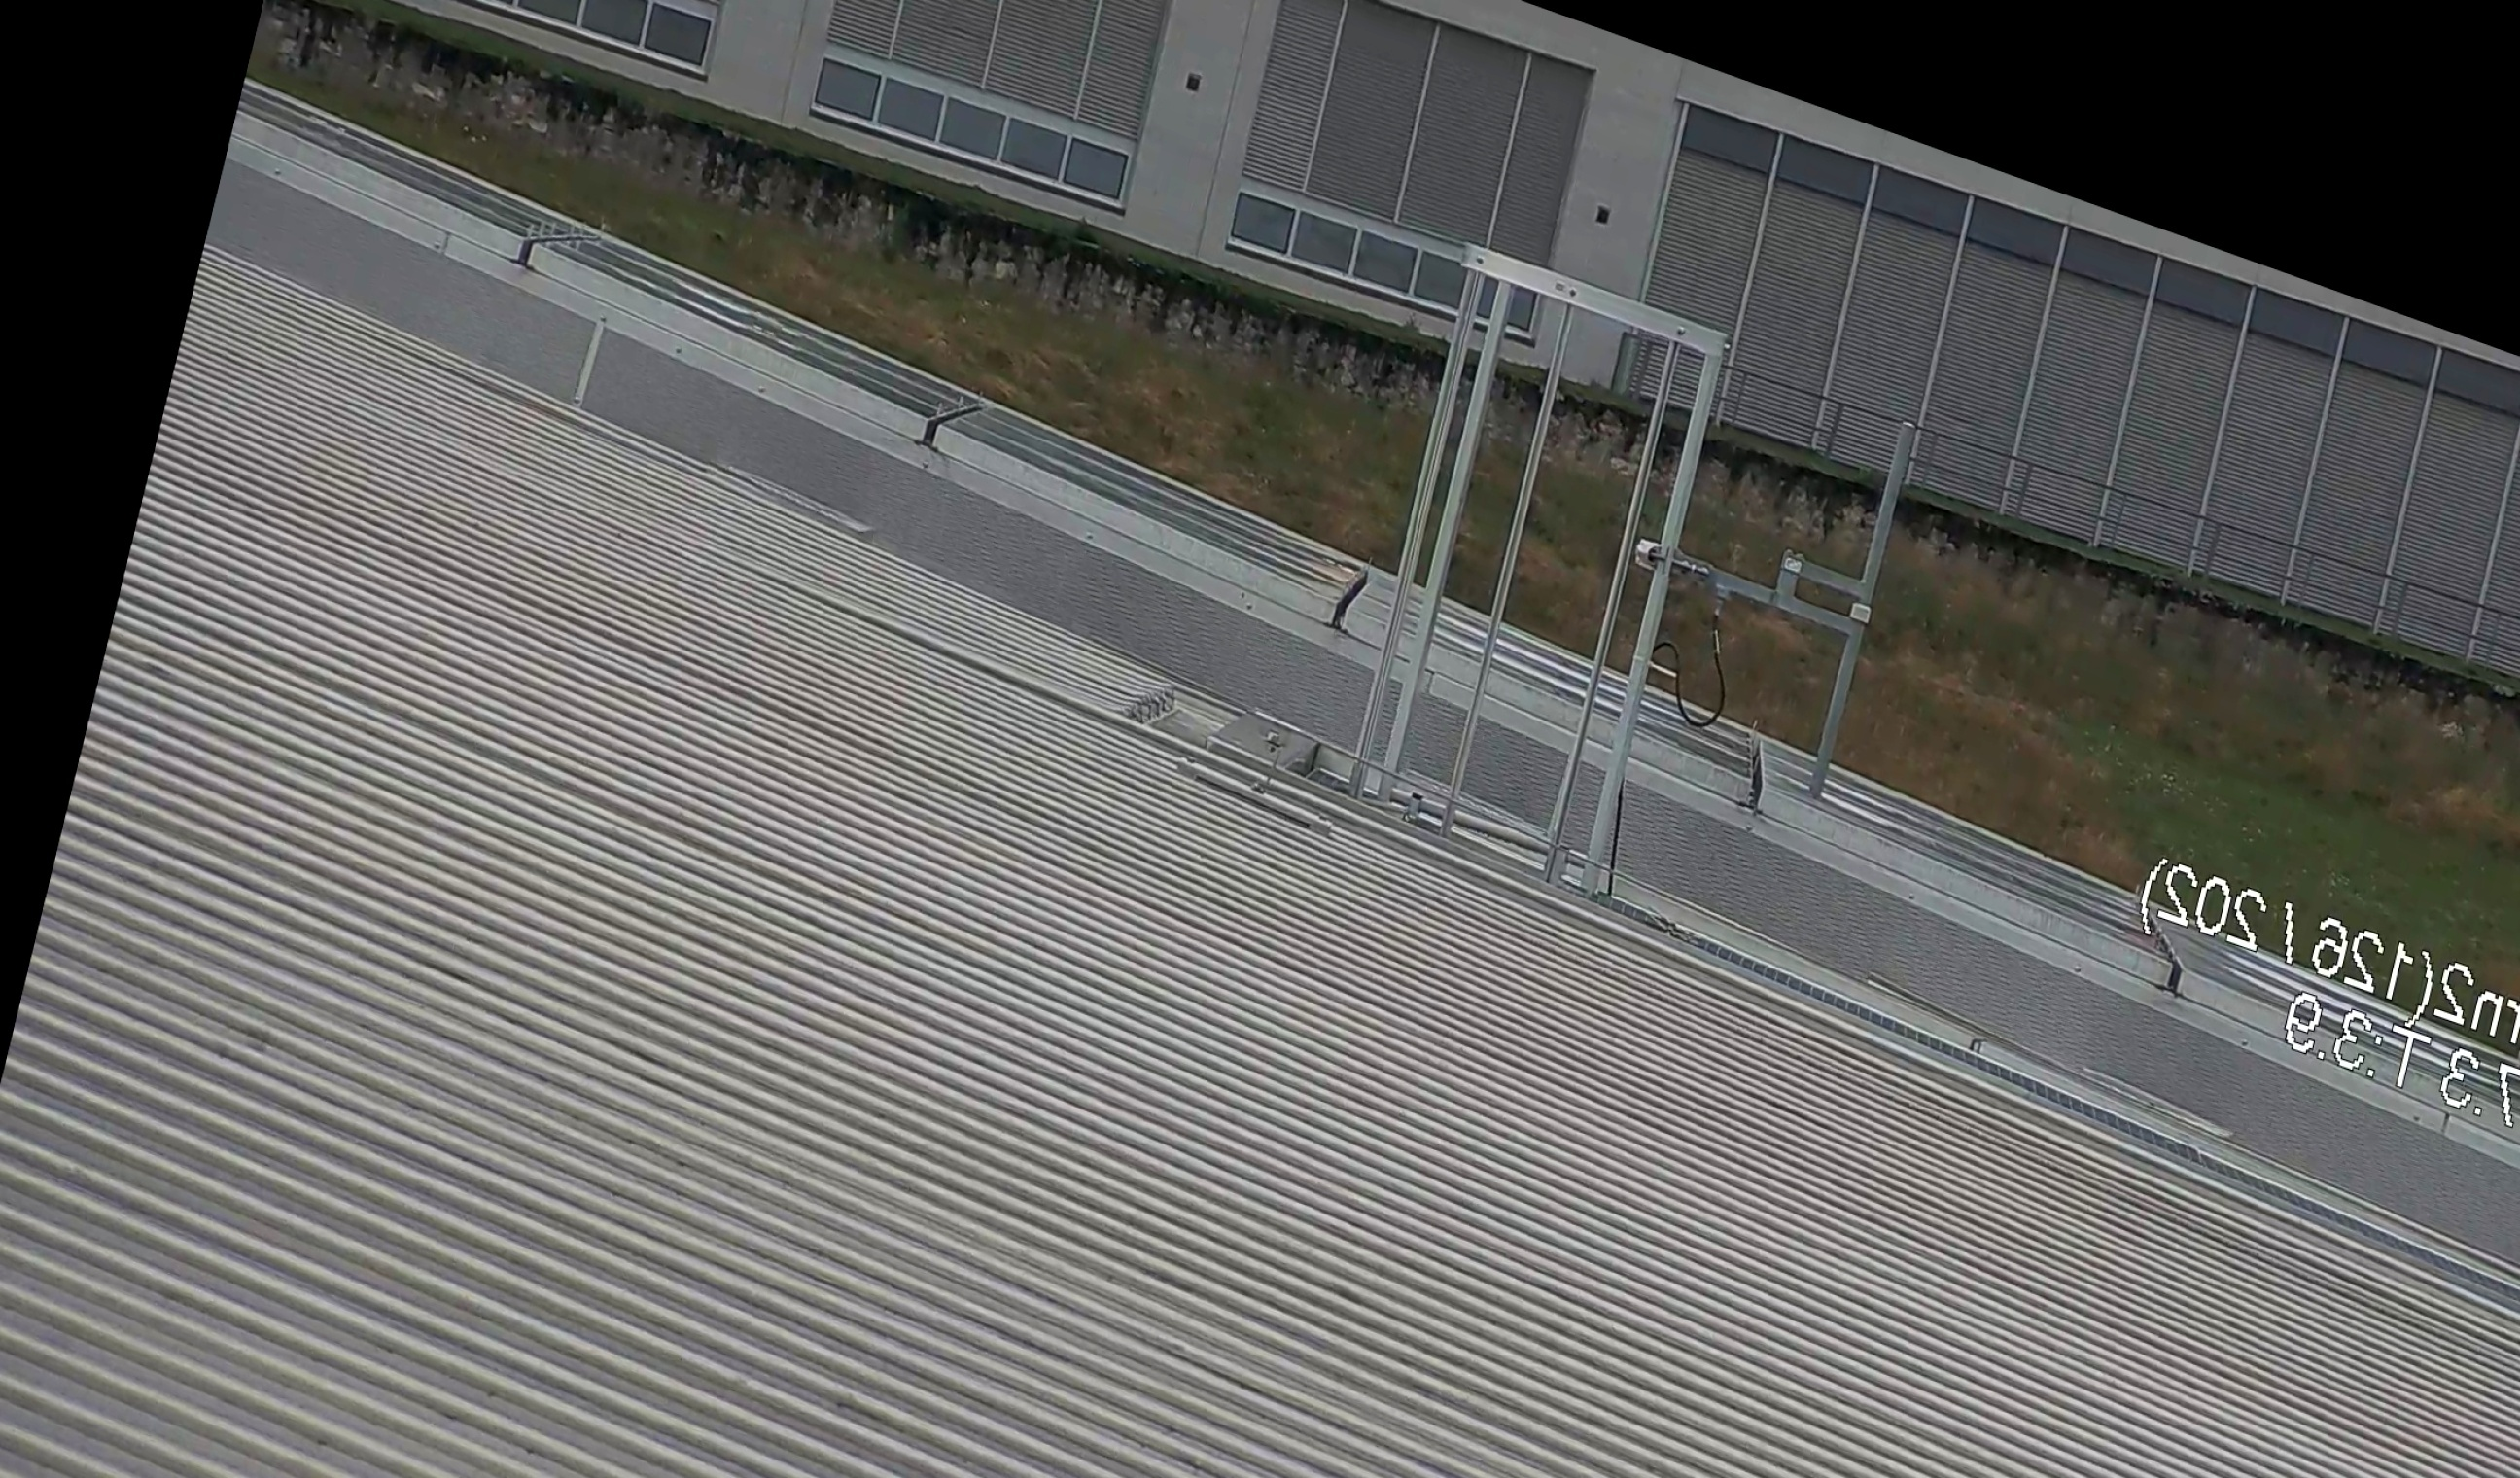Other: (1618, 519, 1778, 746)
